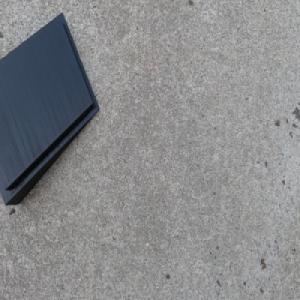PlasticPart: (0, 9, 100, 207)
